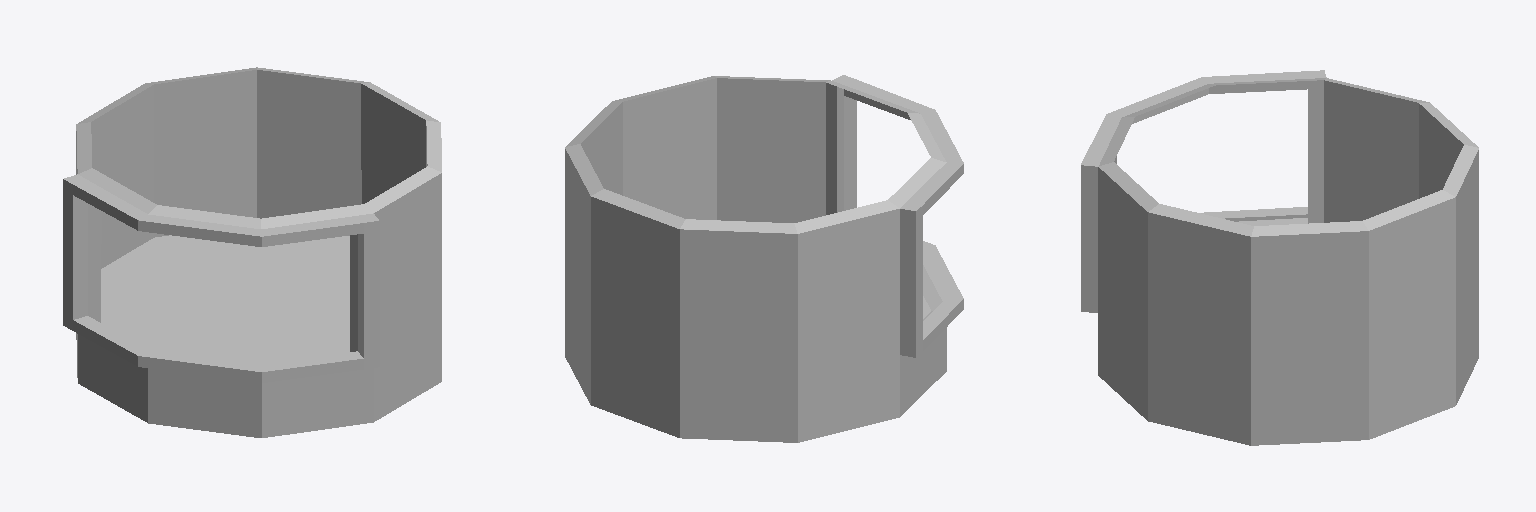
File: EngineRoom_CoreEngineBottom.obj
3 views of the same model, side by side, from view 1: azimuth 30°, elevation 25°; view 2: azimuth 150°, elevation 25°; view 3: azimuth 270°, elevation 25° (orthographic).
Visible parts, largest first — view 1: default; view 2: default; view 3: default.
Part boxes in pixels (bbox=[...]): default: bbox=[63, 67, 441, 437]; default: bbox=[565, 75, 963, 442]; default: bbox=[1081, 70, 1478, 445].
Size of the model in its own units: 24.17 by 14.43 by 24.45.